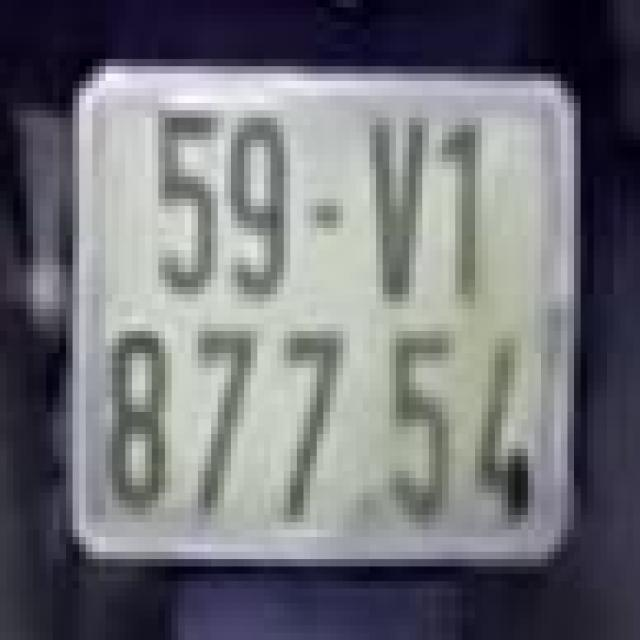1: (435, 107, 495, 305)
4: (478, 320, 538, 533)
5: (373, 320, 465, 526), (145, 96, 224, 294)
7: (268, 306, 346, 534), (188, 309, 247, 530)
8: (96, 316, 175, 530)
9: (221, 107, 300, 305)
V: (353, 99, 432, 313)
